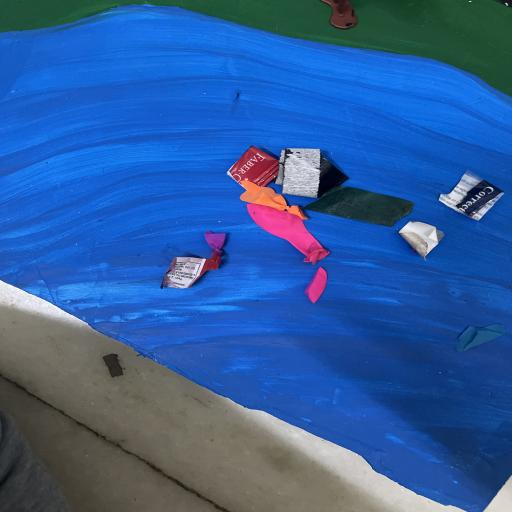trash: (156, 143, 500, 304)
